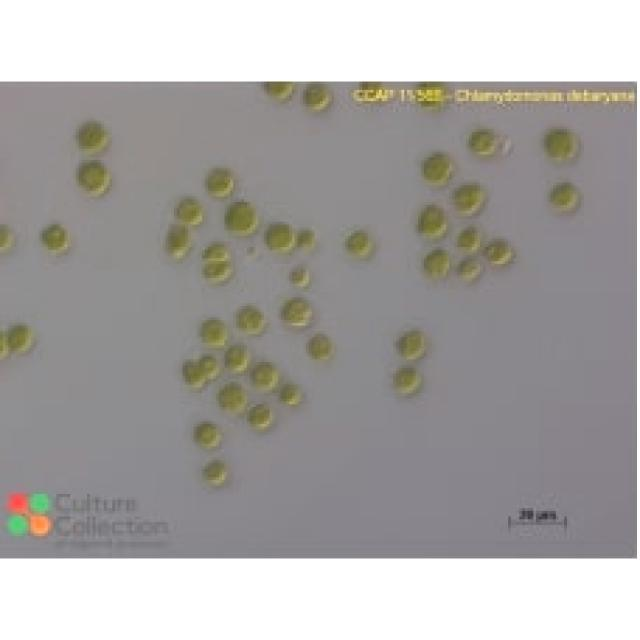Green Algae: (539, 174, 584, 216), (36, 219, 73, 261), (542, 126, 581, 163), (76, 157, 112, 197), (449, 182, 489, 214), (73, 115, 107, 152), (387, 359, 424, 393), (269, 373, 306, 407), (222, 202, 258, 236), (421, 149, 455, 185), (174, 354, 208, 390), (193, 458, 236, 486), (390, 323, 424, 356), (413, 205, 449, 236), (421, 244, 449, 281), (454, 252, 486, 284), (205, 163, 236, 196), (264, 219, 297, 250), (303, 329, 334, 362), (2, 322, 34, 353), (303, 81, 334, 112), (247, 356, 281, 384), (278, 297, 314, 323), (165, 225, 191, 258), (233, 303, 264, 329), (202, 258, 236, 281), (224, 340, 250, 370), (174, 194, 205, 219), (458, 225, 486, 252), (469, 129, 497, 155), (485, 236, 511, 264), (247, 401, 275, 427), (348, 230, 373, 258), (200, 320, 228, 345), (219, 384, 244, 412), (194, 421, 219, 449), (199, 238, 230, 256), (289, 264, 312, 286)
